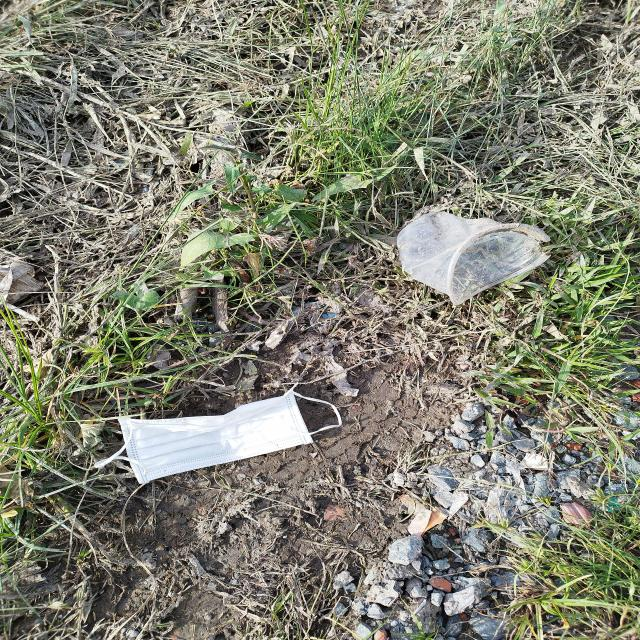mask: (92, 382, 344, 485)
plastic glass: (396, 212, 552, 306)
